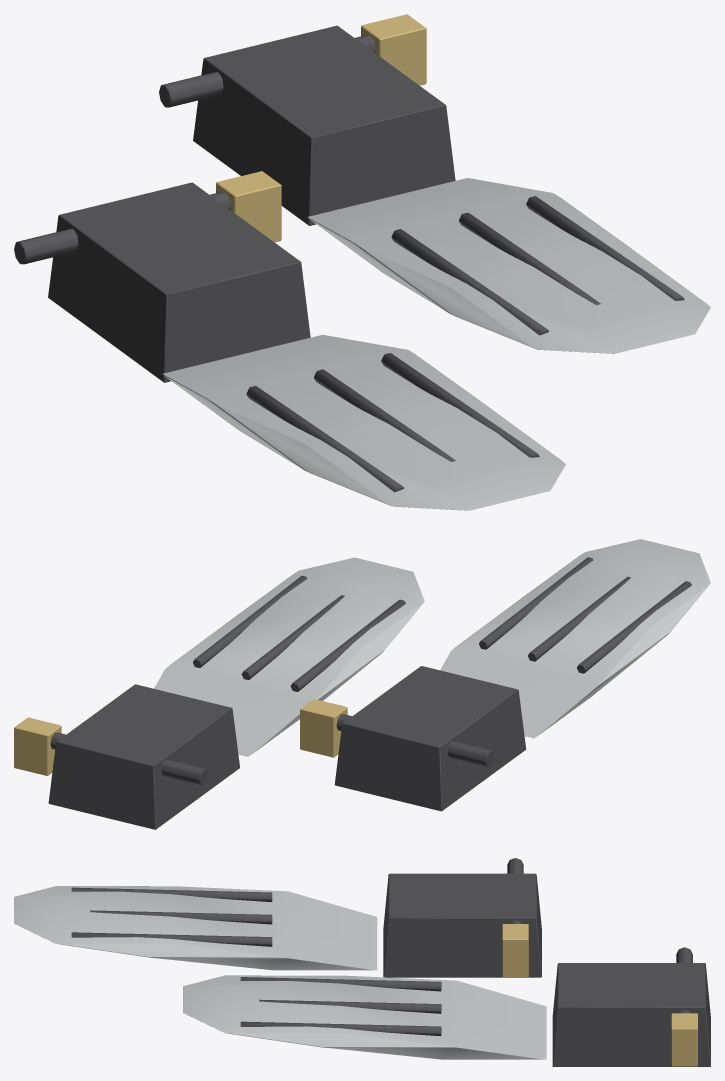
File: IT_flippers.fbx
3 views of the same model, one above another, from view 1: azimuth 30°, elevation 25°; view 2: azimuth 150°, elevation 25°; view 3: azimuth 270°, elevation 25° (orthographic). The views are drawn at different scales.
Visible parts, largest first — view 1: IT_flippers; view 2: IT_flippers; view 3: IT_flippers.
Part boxes in pixels (x1,y1,x2,y2): IT_flippers: (14, 14, 710, 510); IT_flippers: (14, 539, 710, 829); IT_flippers: (14, 858, 710, 1066).
Size of the model in its own units: 0.775 by 0.12 by 1.32.
